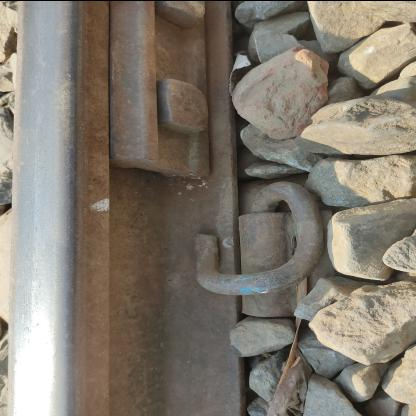Non Defective 1: (150, 166, 362, 338)
